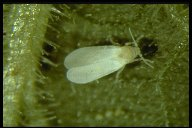whitefly: (64, 28, 153, 85)
